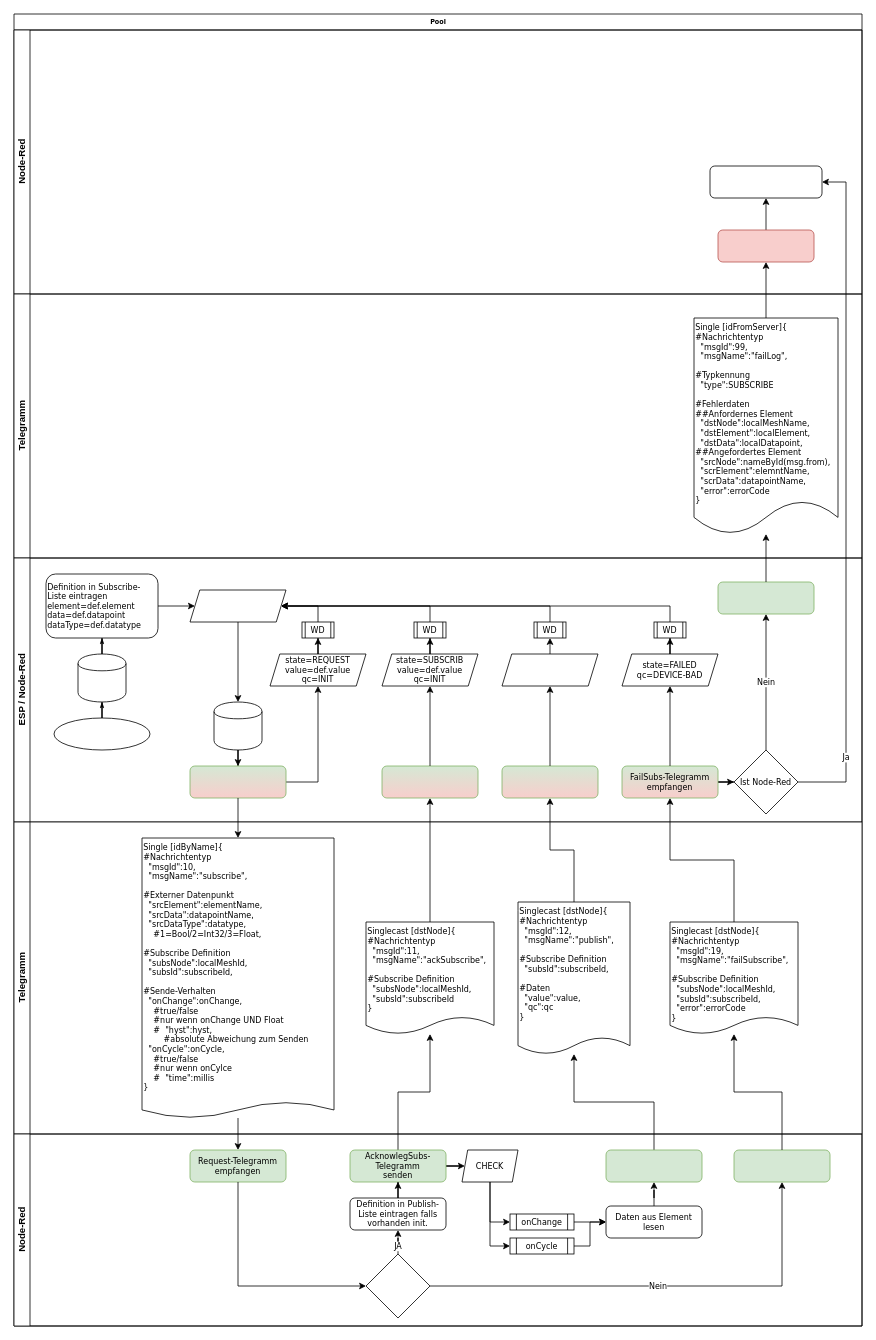
Some shapes in this 876 by 1340 pixel diagram are drawn without their labels. The centre of each missing label's shape, as x and y in pixels:
AcknowlegSubs-Telegramm empfangen: the point at 429,781
Datenbank Eintrag Debug Out: the point at 765,181
Datenpunkt verfügbar: the point at 397,1285
Fail2Subs-Telegramm senden: the point at 781,1165
FailLog-Telegramm empfangen: the point at 765,245
Fehler-Telegramm an Node-Red senden: the point at 765,597
Publish-Telegramm empfangen: the point at 549,781
Publish-Telegramm senden: the point at 653,1165
src{} send{} def{}: the point at 101,677
src{} send{} subs{}: the point at 237,725
state = updated value = val.value qc = val.qc: the point at 549,669
state=INIT value=def.value qc=INIT: the point at 237,605
Subscribe-Telegramm senden: the point at 237,781
Wert beim Parter anmelden: the point at 101,733
